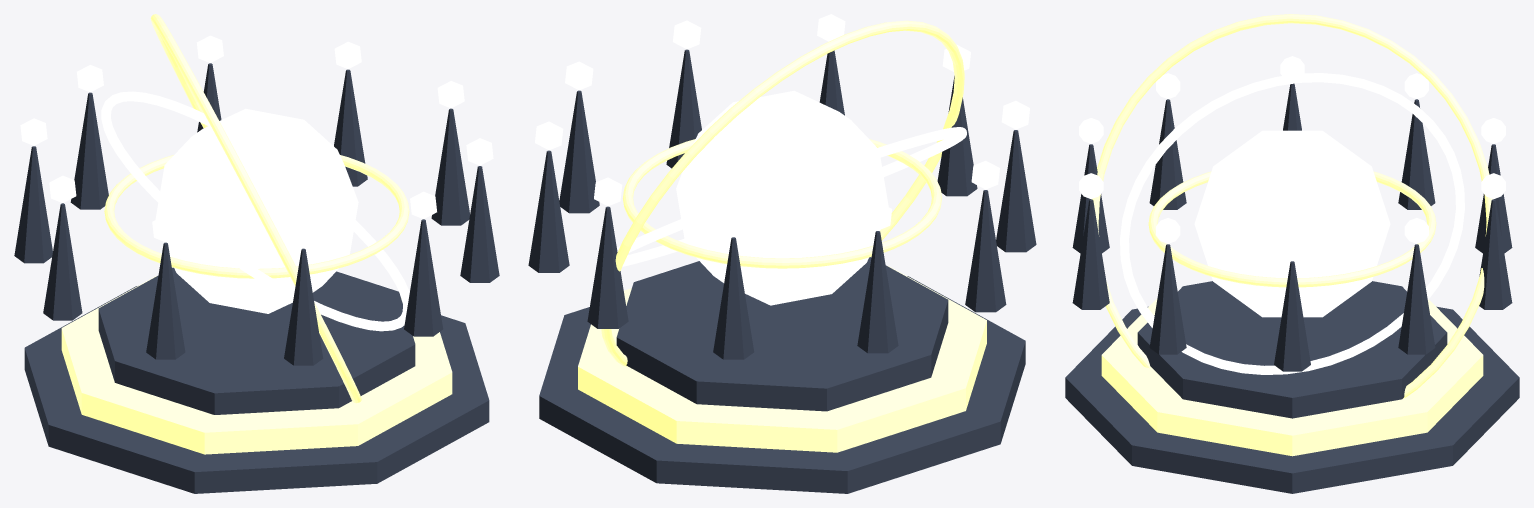
The model's file is gpu-blender-v32.glb.
The picture shows the model from 3 angles, left to right: view 1: azimuth 30°, elevation 25°; view 2: azimuth 150°, elevation 25°; view 3: azimuth 270°, elevation 25°; orthographic projection. The views are drawn at different scales.
Visible parts, largest first — view 1: Cylinder.002, SovereignCore_storefront-catalog, Cylinder, Cylinder.001, Torus.001, Torus, Torus.002, Cone.004, Cone.005, Cone.008, Cone.006, Cone.007 (+15 smaller); view 2: Cylinder.002, SovereignCore_storefront-catalog, Cylinder, Cylinder.001, Torus.002, Torus, Torus.001, Cone.004, Cone.005, Cone.006, Cone.003, Cone.001 (+14 smaller); view 3: SovereignCore_storefront-catalog, Cylinder.002, Cylinder, Cylinder.001, Torus.001, Torus.002, Torus, Cone.001, Cone.009, Cone, Cone.008, Cone.002 (+14 smaller).
Boxes of the visible parts, left/top/right/bottom form: Cylinder.002: left=98, top=267, right=415, bottom=414; SovereignCore_storefront-catalog: left=155, top=108, right=358, bottom=313; Cylinder: left=24, top=286, right=489, bottom=493; Cylinder.001: left=61, top=276, right=452, bottom=454; Torus.001: left=101, top=91, right=409, bottom=331; Torus: left=104, top=155, right=409, bottom=278; Torus.002: left=150, top=14, right=361, bottom=403; Cone.004: left=14, top=146, right=52, bottom=263; Cone.005: left=43, top=203, right=82, bottom=320; Cone.008: left=404, top=219, right=443, bottom=336; Cone.006: left=146, top=242, right=185, bottom=359; Cone.007: left=284, top=248, right=323, bottom=365; Cylinder.002: left=616, top=257, right=948, bottom=411; SovereignCore_storefront-catalog: left=676, top=90, right=888, bottom=305; Cylinder: left=539, top=276, right=1025, bottom=493; Cylinder.001: left=578, top=266, right=986, bottom=452; Torus.002: left=601, top=20, right=964, bottom=366; Torus: left=623, top=139, right=941, bottom=268; Torus.001: left=617, top=127, right=966, bottom=266; Cone.004: left=857, top=231, right=898, bottom=353; Cone.005: left=965, top=190, right=1006, bottom=312; Cone.006: left=996, top=130, right=1036, bottom=252; Cone.003: left=713, top=237, right=754, bottom=359; Cone.001: left=528, top=150, right=569, bottom=272; SovereignCore_storefront-catalog: left=1194, top=130, right=1390, bottom=317; Cylinder.002: left=1137, top=281, right=1447, bottom=418; Cylinder: left=1065, top=306, right=1519, bottom=493; Cylinder.001: left=1101, top=298, right=1483, bottom=456; Torus.001: left=1120, top=73, right=1464, bottom=374; Torus.002: left=1092, top=14, right=1492, bottom=398; Torus: left=1148, top=171, right=1436, bottom=287; Cone.001: left=1398, top=244, right=1435, bottom=354; Cone.009: left=1149, top=244, right=1186, bottom=354; Cone: left=1274, top=261, right=1310, bottom=371; Cone.008: left=1072, top=199, right=1109, bottom=309; Cone.002: left=1479, top=199, right=1512, bottom=309.
Bounding box in the file's own units: 4.41 × 3.72 × 4.4.
